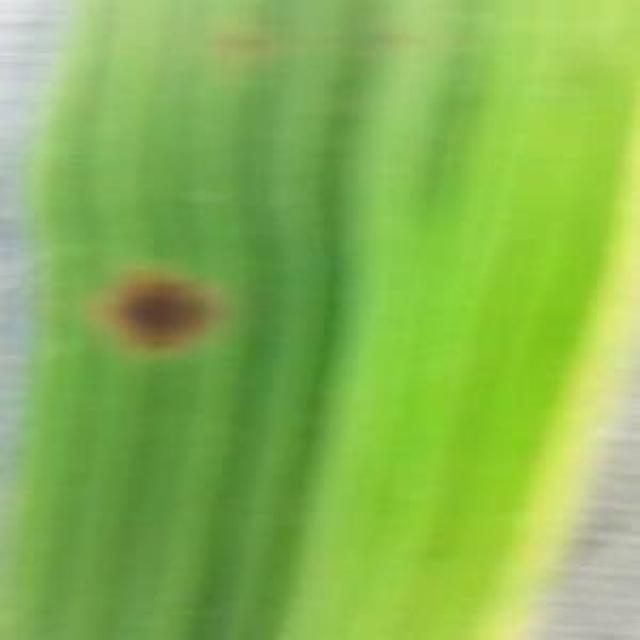Brown_Spot: (76, 255, 233, 364)
